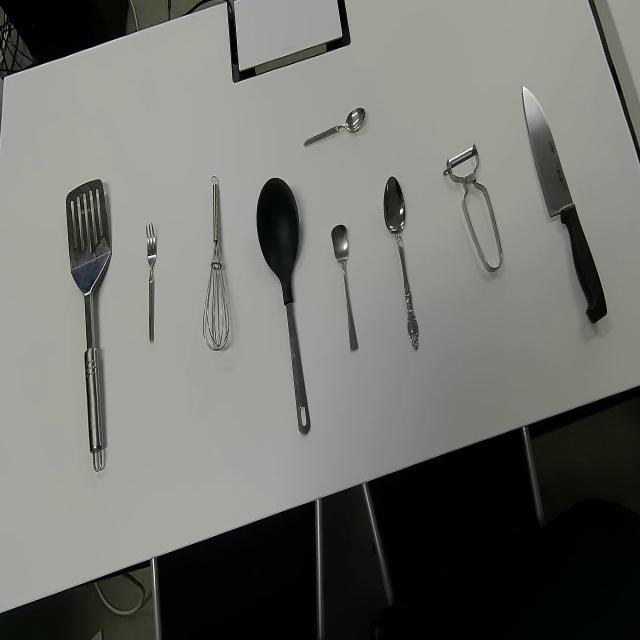Desert-Spoon: (382, 174, 420, 350)
Dinner-Fork: (144, 222, 158, 346)
Kitchen-Knife: (521, 84, 608, 324)
Peeler: (444, 142, 504, 274)
Serving-Spoon: (255, 175, 311, 436), (65, 177, 112, 474)
Tea-Spoon: (331, 222, 359, 352), (304, 106, 368, 150)
Whisk: (201, 175, 230, 352)
